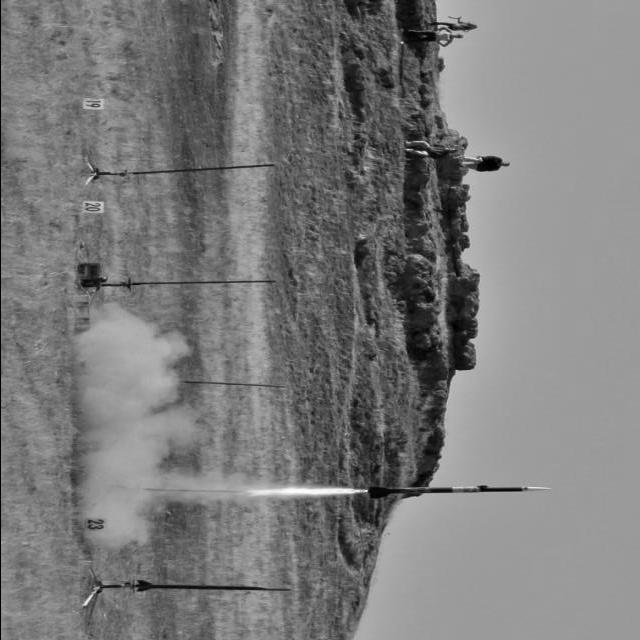Missile: (365, 481, 550, 503), (134, 581, 289, 595)
